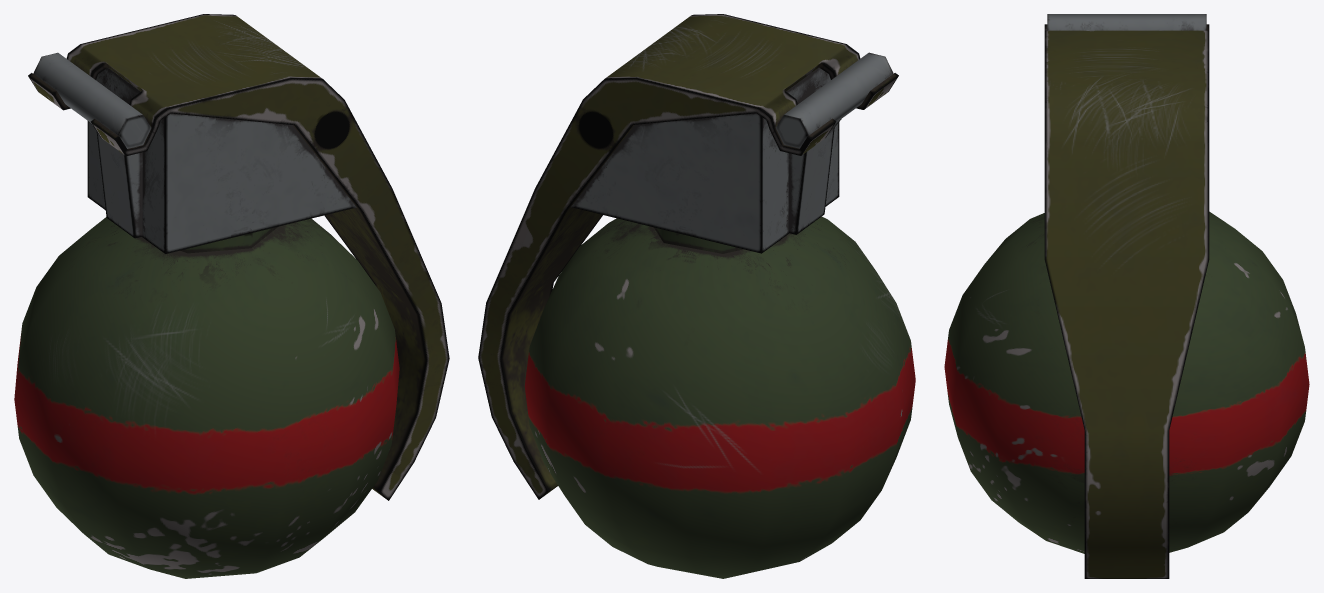
File: GrenadeFrag_noPin.fbx
3 renders of one model, left to right at view 1: azimuth 30°, elevation 25°; view 2: azimuth 150°, elevation 25°; view 3: azimuth 270°, elevation 25°, orthographic. The views are drawn at different scales.
Visible parts, largest first — view 1: GrenadeFrag_noPin; view 2: GrenadeFrag_noPin; view 3: GrenadeFrag_noPin.
Boxes of the visible parts, x1,y1,x2,y2 form: GrenadeFrag_noPin: (14,14,449,578); GrenadeFrag_noPin: (478,14,915,578); GrenadeFrag_noPin: (944,14,1309,578).
Size of the model in its own units: 7.96 by 9.92 by 6.91.
